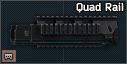SA-58 quad rail handguard: (0, 0, 127, 64)
